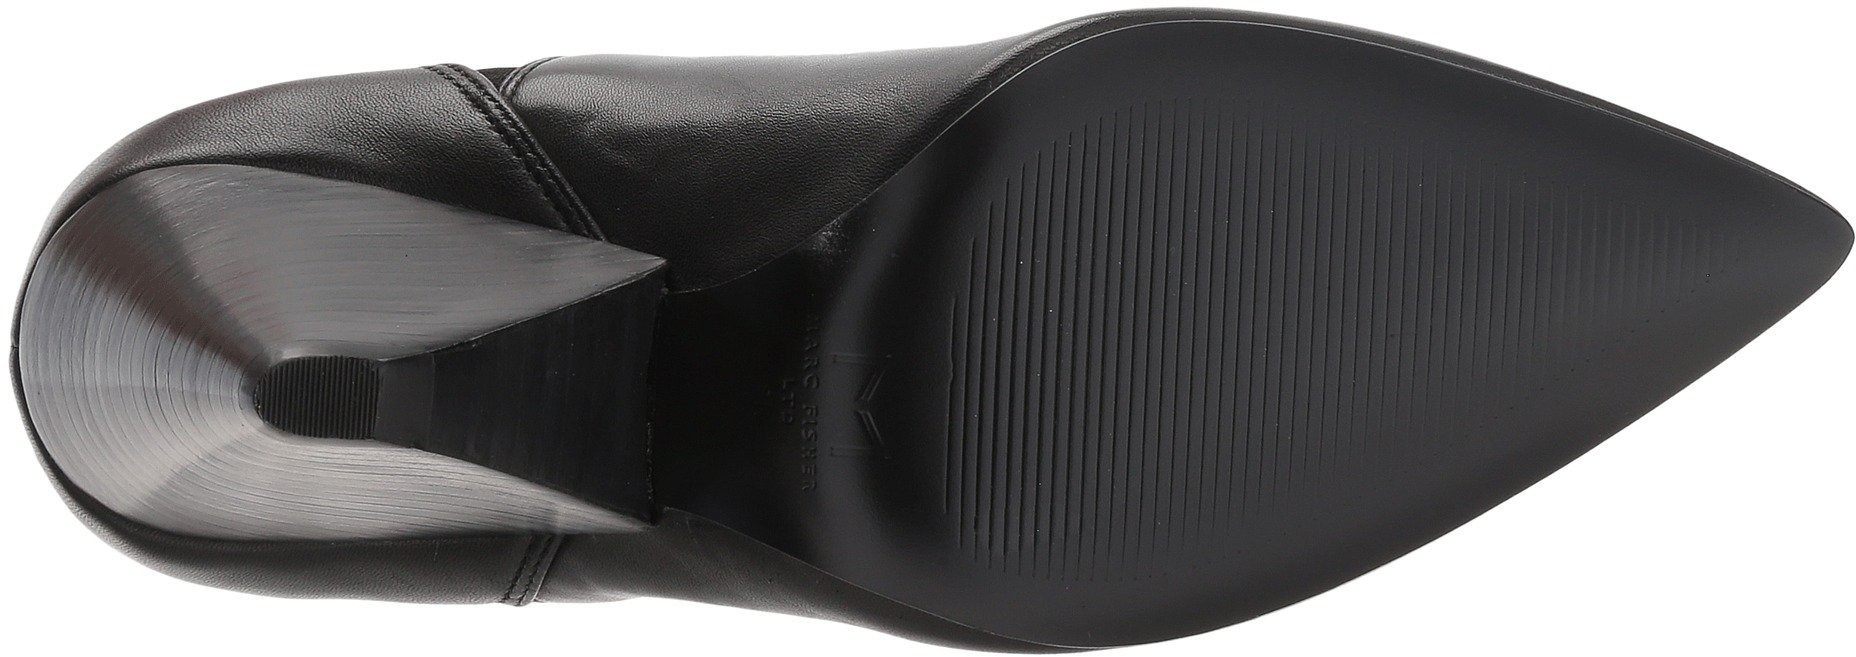line: (247, 353, 381, 446)
text: (755, 292, 911, 505)
